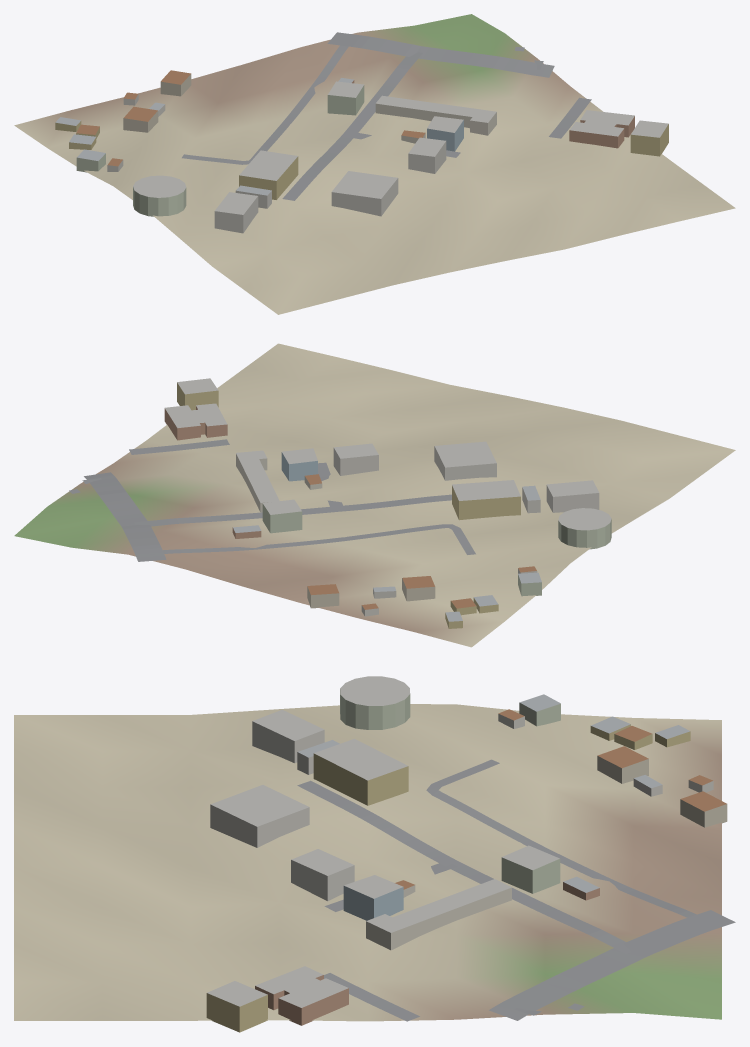
The picture shows the model from 3 angles, top to bottom: view 1: azimuth 30°, elevation 25°; view 2: azimuth 150°, elevation 25°; view 3: azimuth 270°, elevation 25°; orthographic projection. The views are drawn at different scales.
Visible parts, largest first — view 1: Lo; view 2: Lo; view 3: Lo.
Boxes of the visible parts, left/top/right/bottom form: Lo: left=14, top=14, right=735, bottom=314; Lo: left=14, top=343, right=735, bottom=647; Lo: left=14, top=676, right=735, bottom=1032.
Bounding box in the file's own units: 269 × 16.7 × 261.
